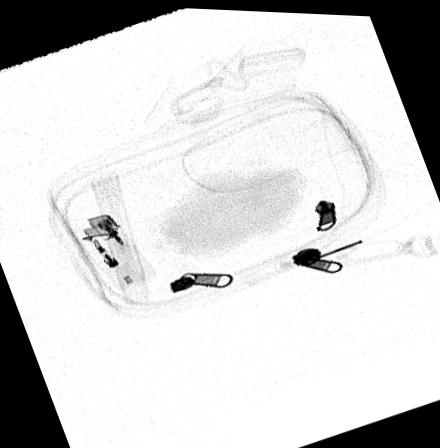Lighter: (69, 209, 156, 291)
